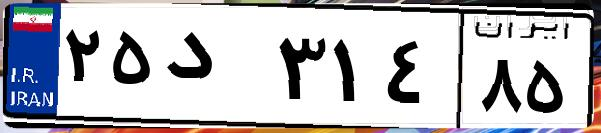1: (330, 28, 385, 110)
2: (57, 26, 110, 100)
3: (270, 28, 330, 110)
4: (385, 28, 445, 110)
5: (525, 38, 570, 115), (110, 28, 158, 98)
8: (475, 38, 525, 113)
د: (158, 20, 270, 120)
